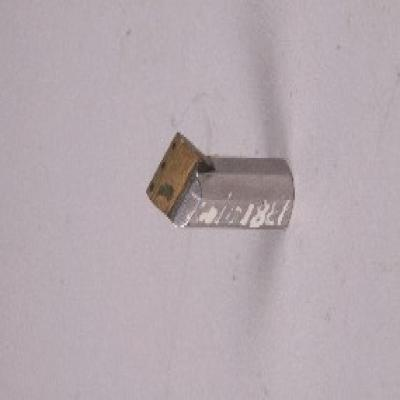technique: (146, 135, 296, 229)
